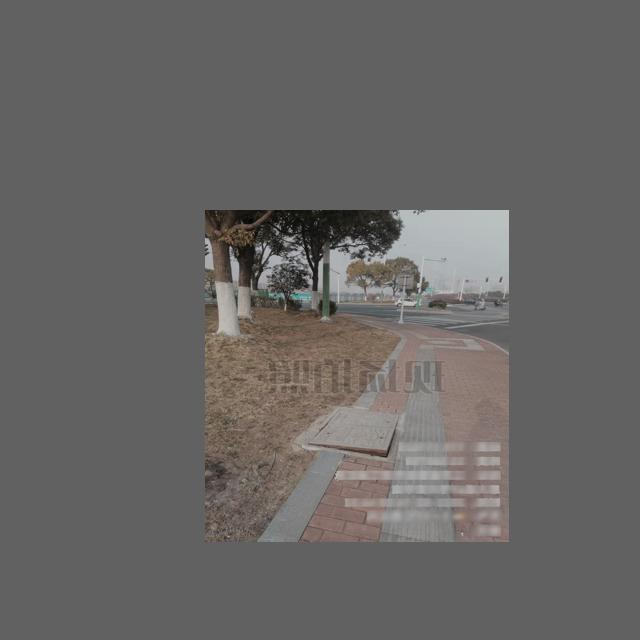uncovered: (305, 404, 405, 462)
